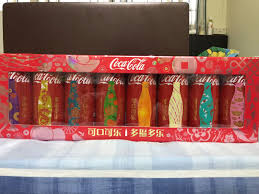cocacola_blue_fish: (191, 72, 223, 131)
cocacola_blue_flowers: (64, 71, 96, 128)
cocacola_green_apples: (96, 71, 125, 129)
cocacola_pink_feather: (223, 73, 247, 131)
cocacola_violet_balls: (7, 68, 33, 128)
cocacola_white_lines: (158, 72, 191, 132)
cocacola_yellow_dragons: (32, 70, 66, 128)
cocacola_yellow_pattern: (125, 71, 159, 130)
